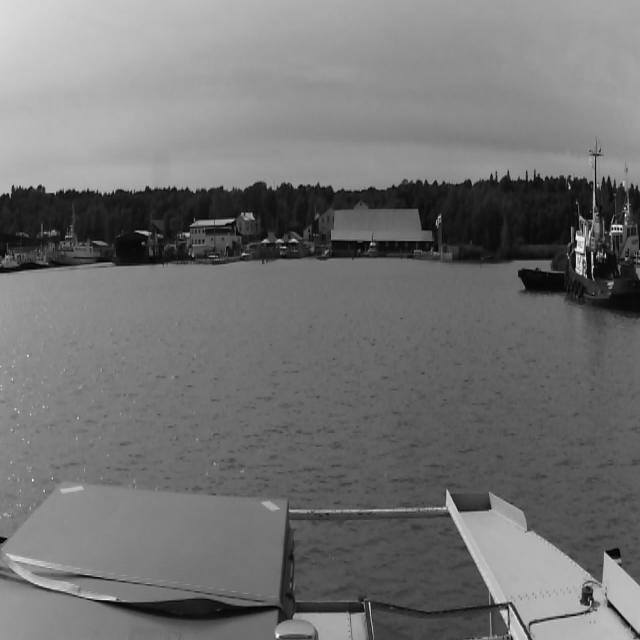ship: (564, 140, 638, 310)
